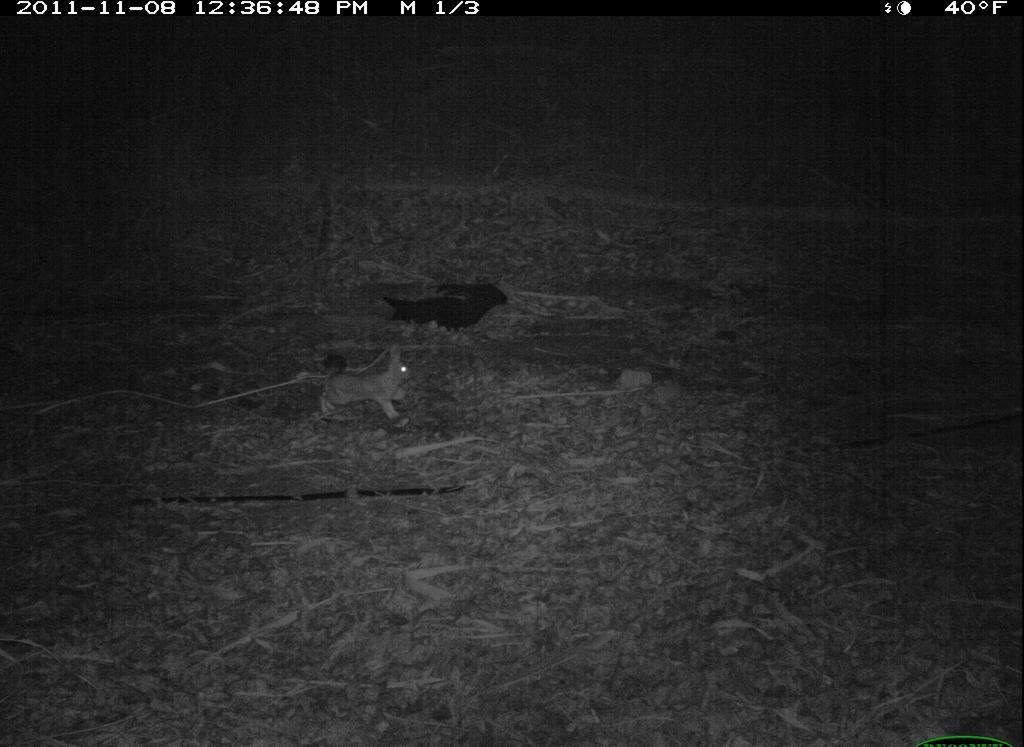rabbit: (314, 344, 425, 434)
